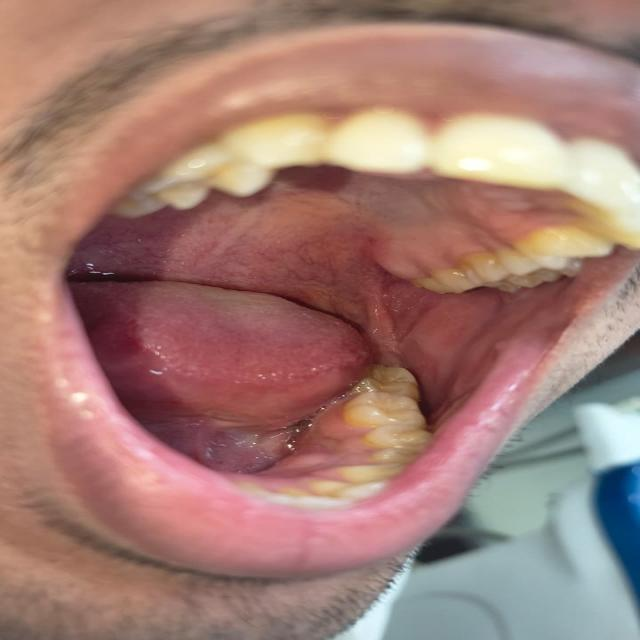processing_area: (58, 195, 567, 466)
